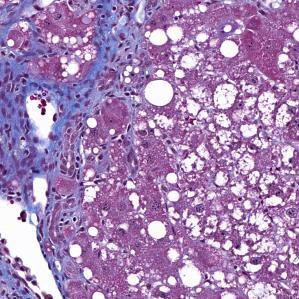fibrosis: (0, 75, 100, 185), (93, 0, 152, 82), (39, 187, 90, 264)
